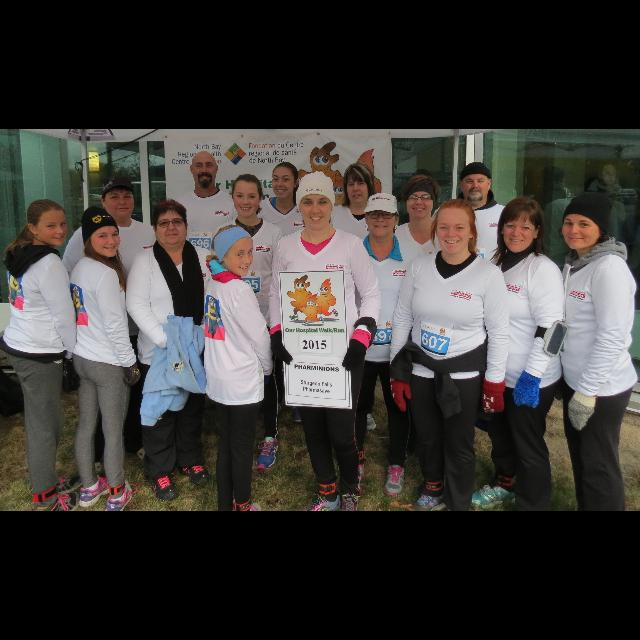head: (562, 194, 608, 250), (212, 225, 254, 278), (435, 200, 475, 254), (501, 199, 541, 253), (27, 200, 69, 247), (82, 214, 120, 258), (152, 201, 188, 245), (298, 186, 334, 230), (364, 198, 400, 238), (231, 174, 263, 218), (460, 161, 492, 203), (100, 182, 136, 218), (406, 177, 436, 219), (344, 163, 374, 204), (190, 150, 218, 188), (272, 162, 300, 200)
person: (56, 175, 162, 480), (126, 196, 220, 504), (336, 189, 428, 497), (159, 150, 255, 438), (441, 160, 523, 464), (205, 172, 285, 474), (244, 161, 326, 427), (383, 174, 457, 462), (320, 162, 390, 436)
